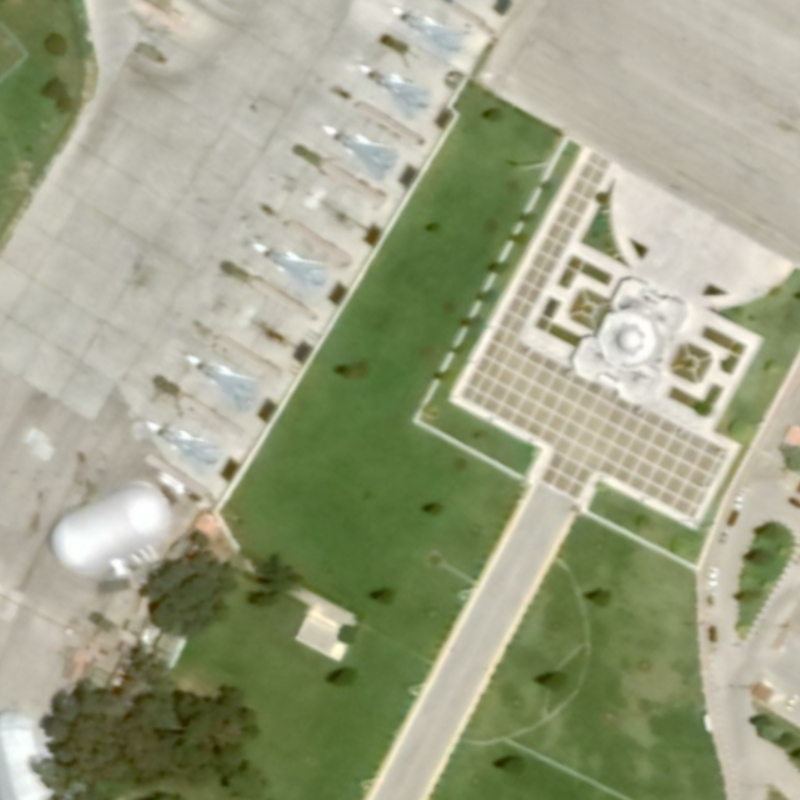A20: (247, 237, 340, 301), (315, 121, 407, 185), (179, 349, 268, 414), (387, 3, 474, 67), (141, 418, 226, 480), (356, 61, 438, 121)
